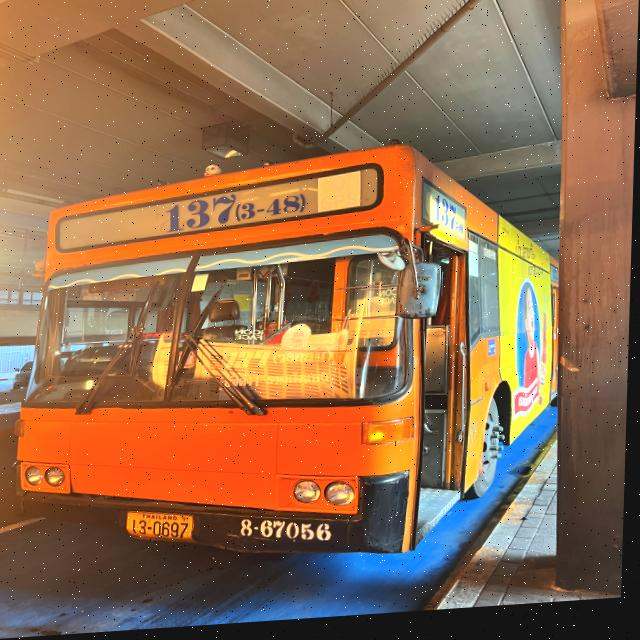BMTA-bus: (15, 142, 568, 583)
Bus-Line-Number: (157, 185, 313, 240)
Destination-Sign-Normal: (225, 344, 353, 406)
